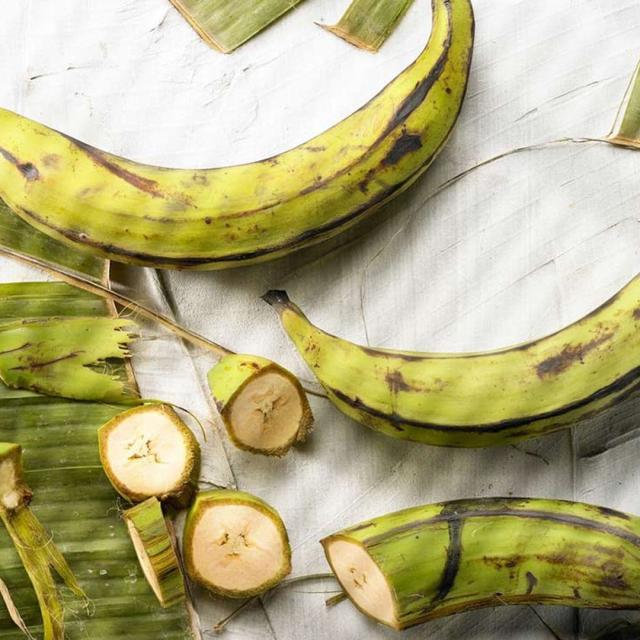platano: (192, 332, 329, 462), (83, 393, 203, 502), (190, 488, 304, 598)
